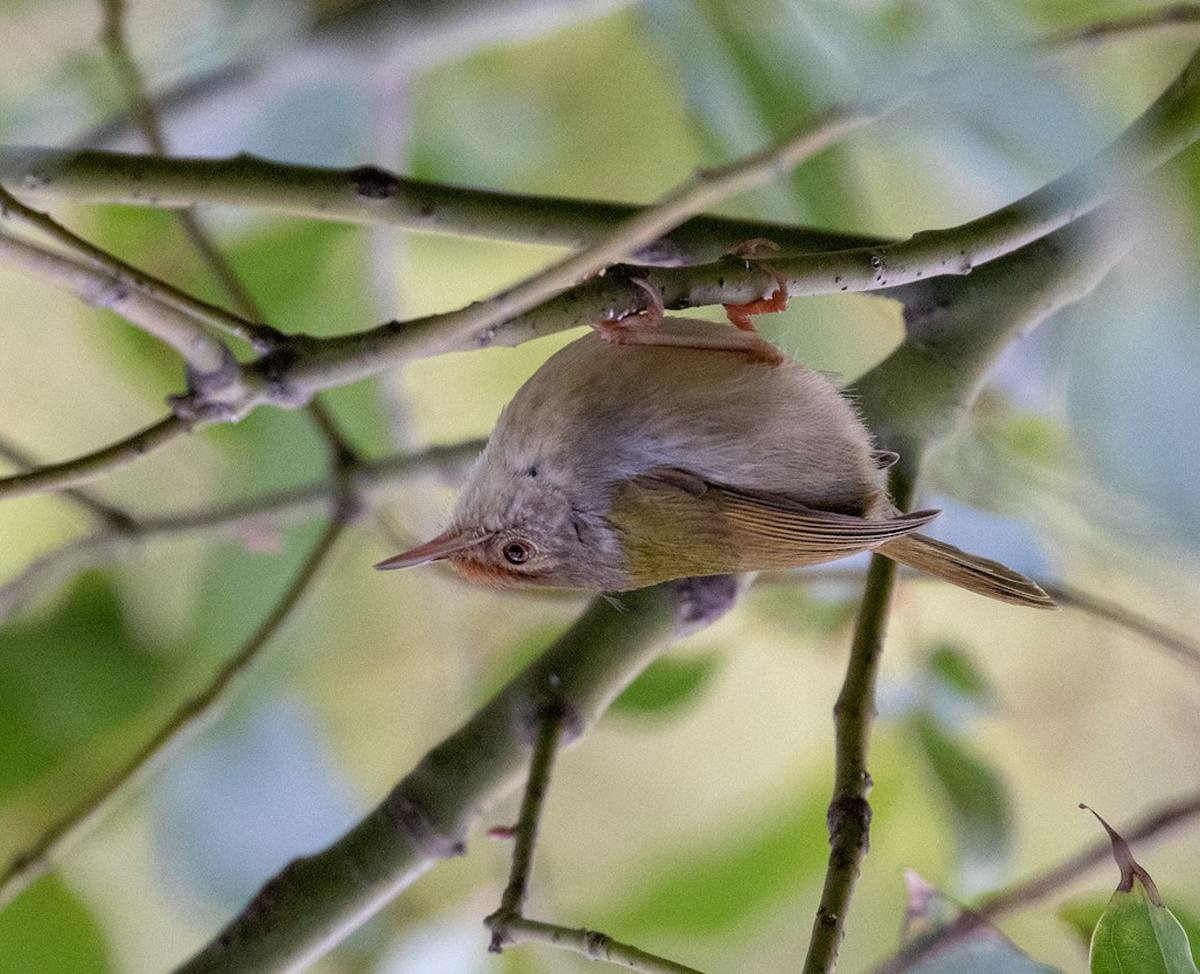tailorbird: (367, 235, 1056, 666)
